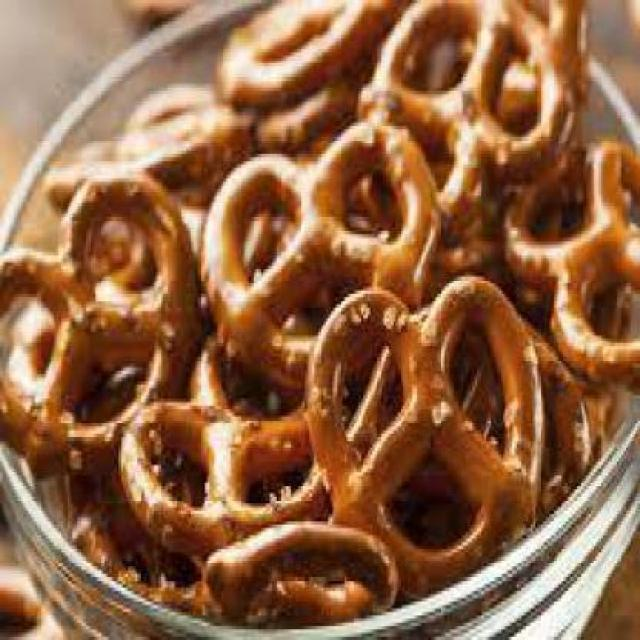Salatini packaged: (7, 14, 638, 612)
